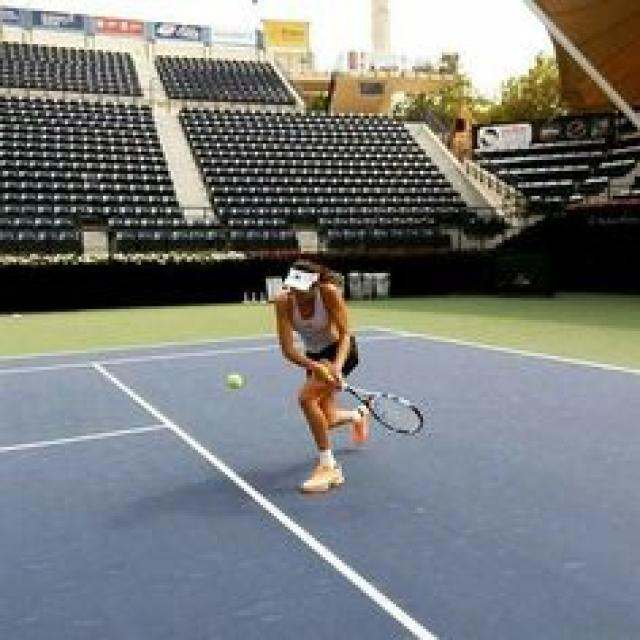tennis: (227, 370, 247, 390)
